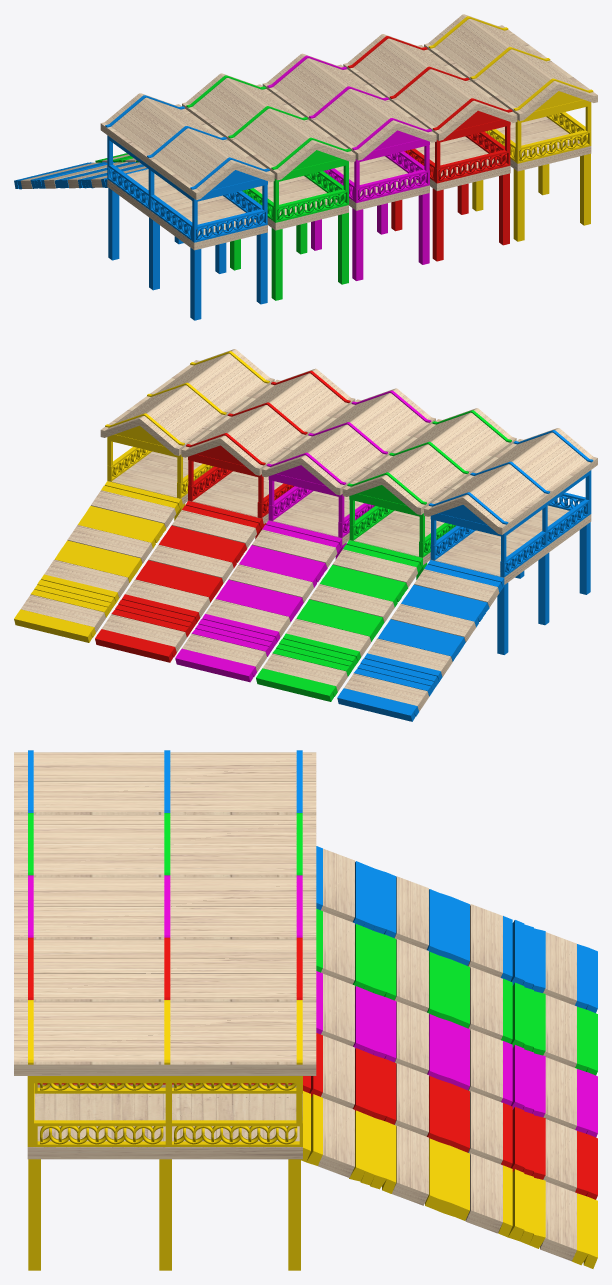
Rendered from colored-barn-reference.glb.
3 views of the same model, one above another, from view 1: azimuth 30°, elevation 25°; view 2: azimuth 150°, elevation 25°; view 3: azimuth 270°, elevation 25° (orthographic). The views are drawn at different scales.
Parts seen in each view (by area): view 1: Material_002-material, Material_002-material_1, Material_002-material_2, Material_002-material_4, Material_002-material_3, Material_004-material, Material_008-material, Material_005-material, Material_007-material, Material_006-material, Material_023-material, Material_003-material (+9 smaller); view 2: Material_002-material, Material_021-material, Material_022-material, Material_020-material, Material_018-material, Material_019-material, Material_002-material_1, Material_002-material_4, Material_002-material_2, Material_002-material_3, Material_004-material, Material_003-material (+29 smaller); view 3: Material_002-material_4, Material_002-material, Material_002-material_3, Material_002-material_1, Material_002-material_2, Material_008-material, Material_003-material_4, Material_022-material, Material_021-material, Material_018-material, Material_019-material, Material_020-material (+25 smaller).
Part boxes in pixels (x1,y1,x2,y2): Material_002-material: [100, 93, 274, 200]; Material_002-material_1: [182, 73, 355, 180]; Material_002-material_2: [262, 53, 436, 160]; Material_002-material_4: [424, 14, 597, 121]; Material_002-material_3: [343, 34, 517, 140]; Material_004-material: [105, 95, 269, 242]; Material_008-material: [428, 16, 593, 163]; Material_005-material: [186, 75, 351, 222]; Material_007-material: [347, 36, 512, 183]; Material_006-material: [267, 55, 431, 202]; Material_023-material: [108, 188, 267, 320]; Material_003-material: [107, 169, 267, 250]; Material_002-material: [424, 428, 597, 534]; Material_021-material: [95, 501, 263, 662]; Material_022-material: [14, 481, 182, 642]; Material_020-material: [175, 520, 342, 682]; Material_018-material: [337, 560, 504, 721]; Material_019-material: [256, 540, 423, 701]; Material_002-material_1: [342, 408, 516, 514]; Material_002-material_4: [100, 349, 274, 455]; Material_002-material_2: [262, 388, 435, 495]; Material_002-material_3: [181, 368, 355, 475]; Material_004-material: [428, 430, 593, 577]; Material_003-material: [431, 505, 591, 584]; Material_002-material_4: [14, 1001, 316, 1075]; Material_002-material: [14, 752, 316, 814]; Material_002-material_3: [14, 939, 316, 1001]; Material_002-material_1: [14, 815, 316, 877]; Material_002-material_2: [14, 877, 316, 939]; Material_008-material: [27, 1000, 302, 1146]; Material_003-material_4: [27, 1093, 302, 1159]; Material_022-material: [299, 1091, 597, 1268]; Material_021-material: [303, 1033, 597, 1199]; Material_018-material: [316, 846, 597, 1013]; Material_019-material: [316, 908, 597, 1075]; Material_020-material: [316, 971, 597, 1137].
Size of the model in its own units: 14.63 by 5.33 by 11.64.
21 materials, 6 textured.
